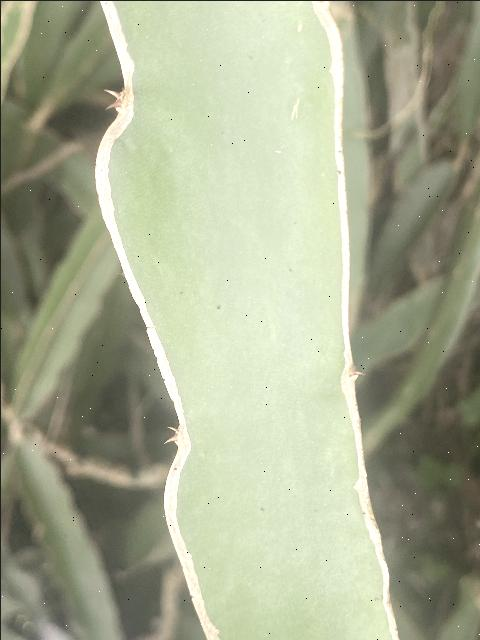stemcanker: (94, 1, 400, 640)
